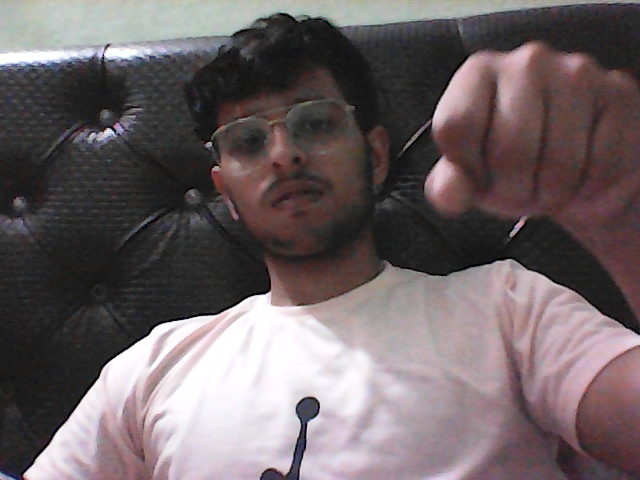yes: (407, 33, 640, 247)
